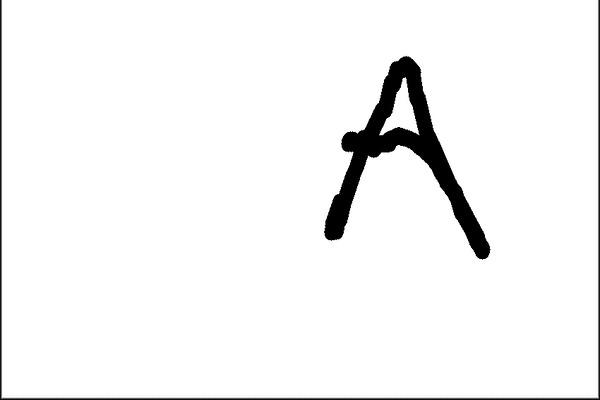A: (317, 42, 498, 256)
